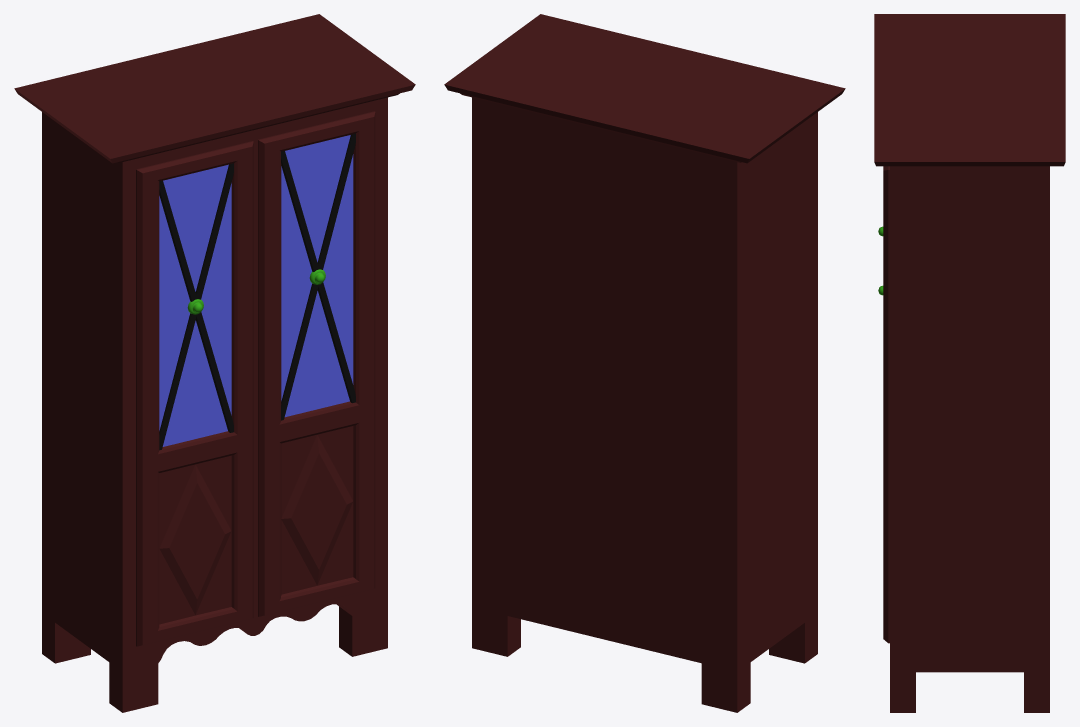
Rendered from armario_00_LP_unwrap.fbx.
3 renders of one model, left to right at view 1: azimuth 30°, elevation 25°; view 2: azimuth 150°, elevation 25°; view 3: azimuth 270°, elevation 25°, orthographic.
Visible parts, largest first — view 1: armario_00_LP; view 2: armario_00_LP; view 3: armario_00_LP.
Boxes of the visible parts, bbox=[...] form: armario_00_LP: bbox=[14, 14, 415, 712]; armario_00_LP: bbox=[444, 14, 845, 712]; armario_00_LP: bbox=[874, 14, 1065, 712].
Size of the model in its own units: 21.85 by 38.61 by 11.95.
